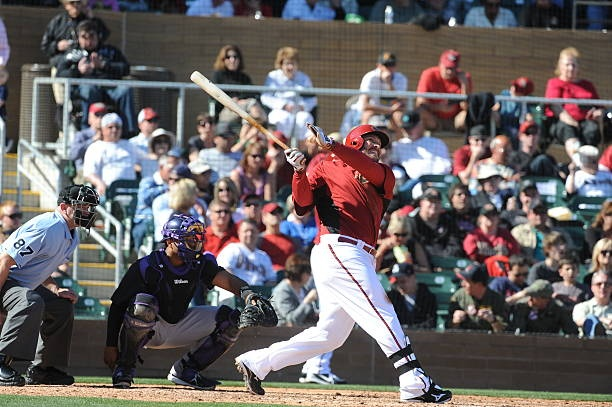bita: (189, 70, 307, 163)
